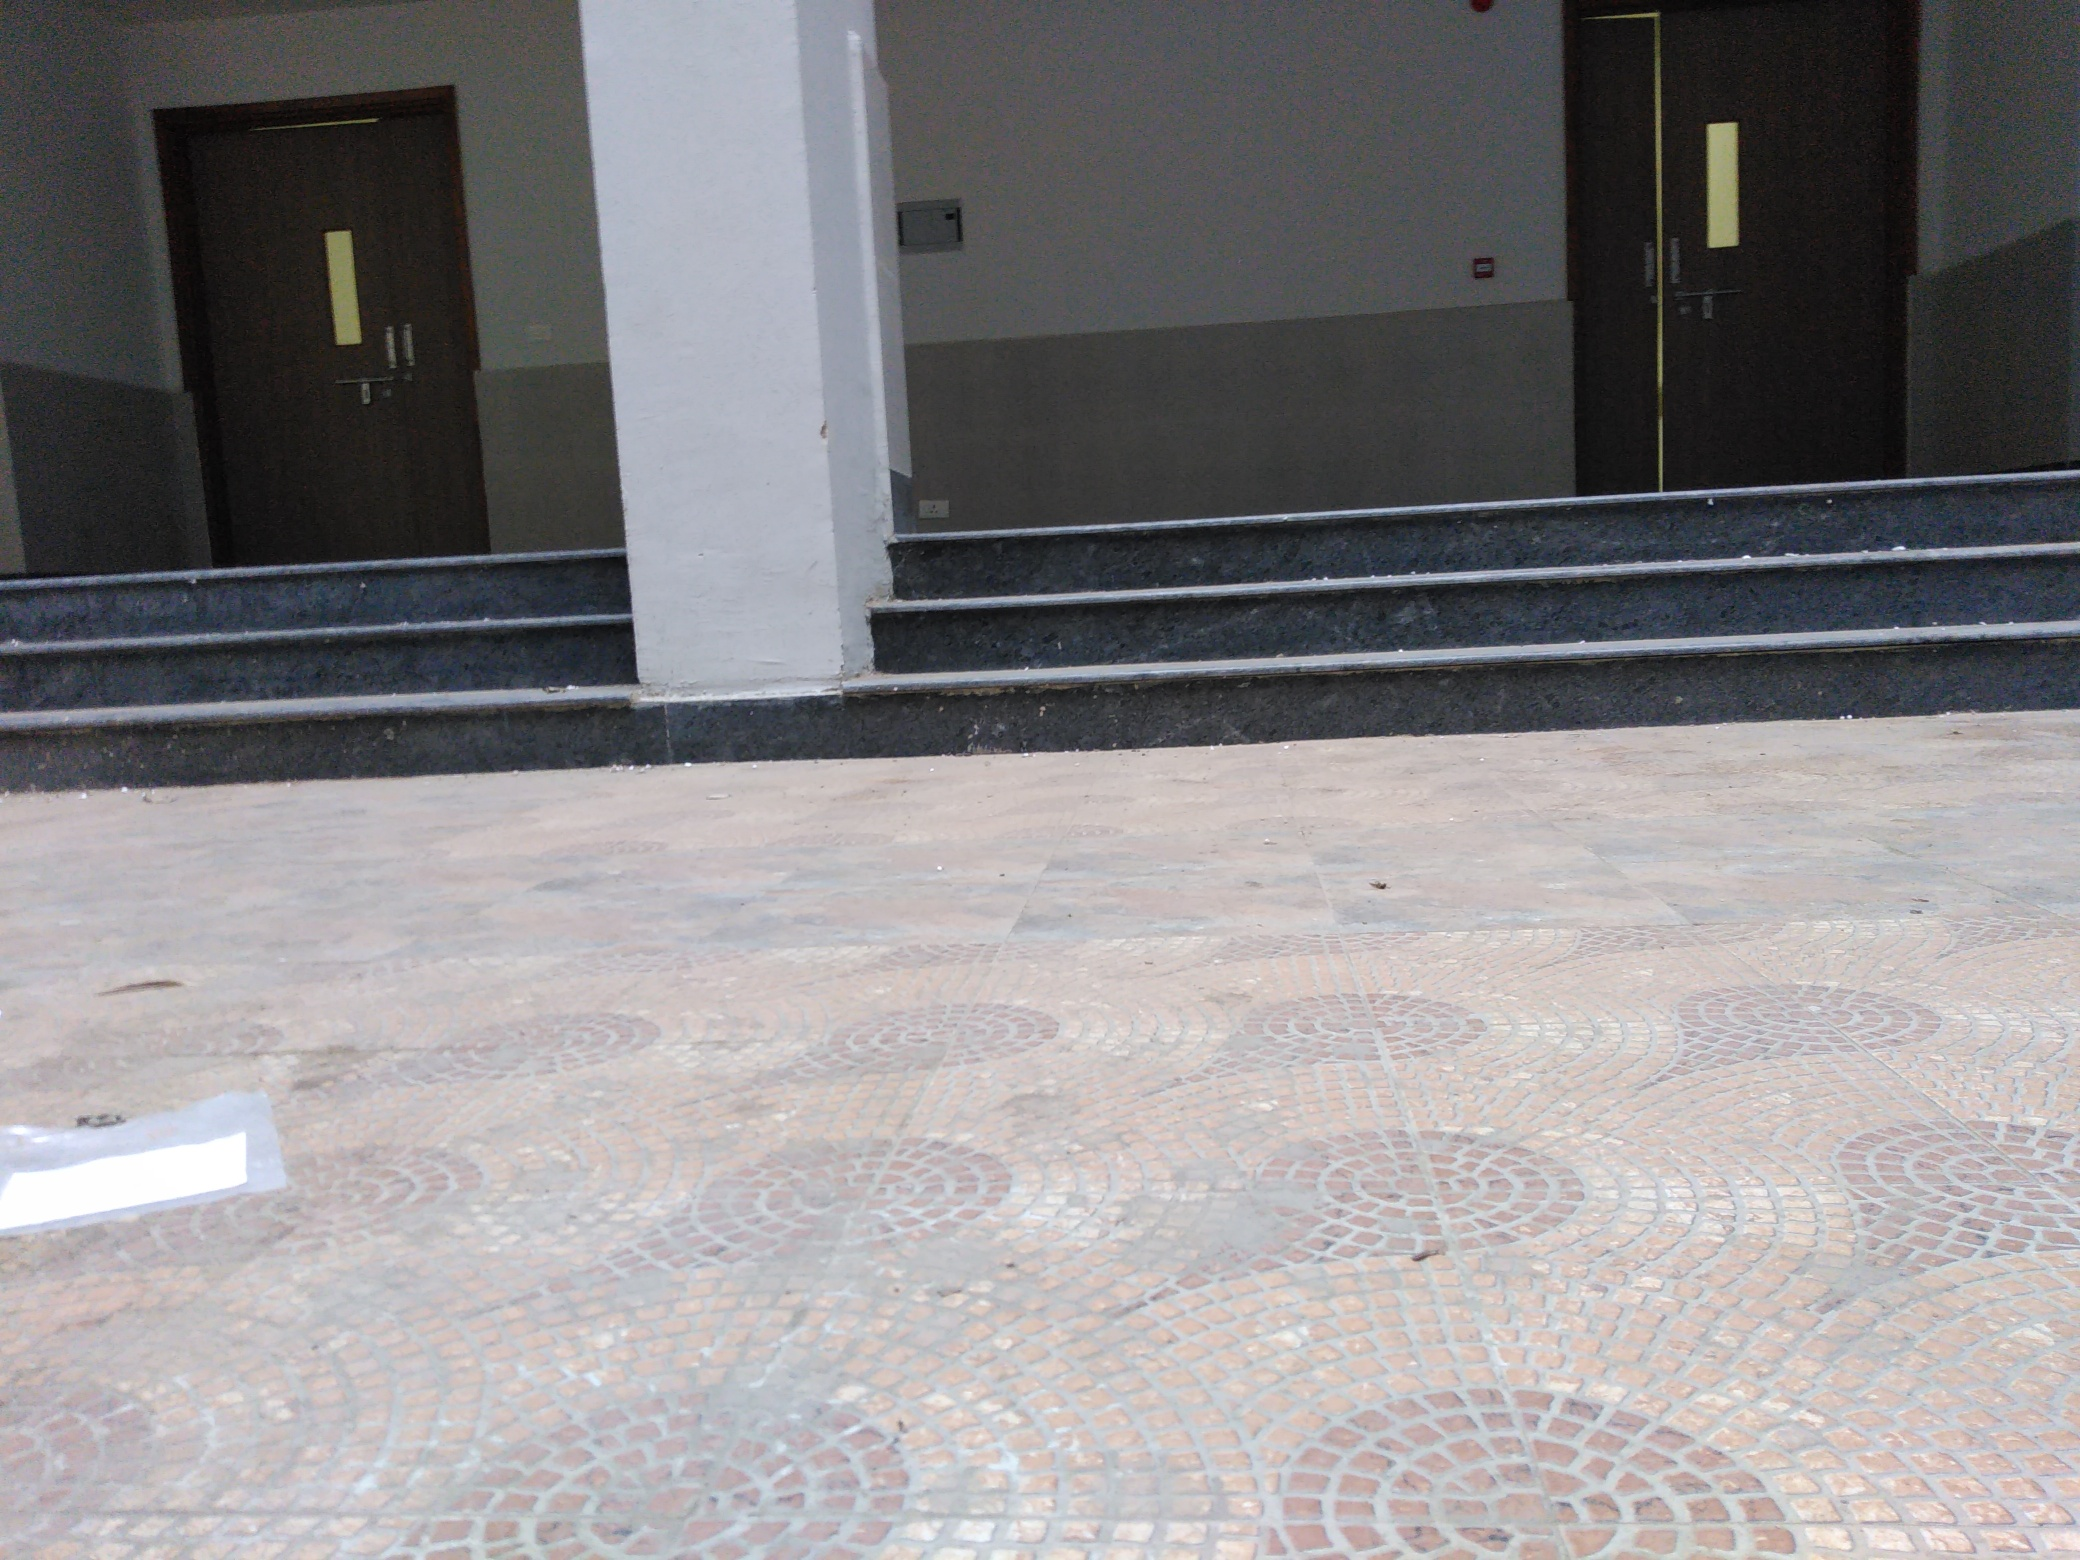stairs_up: (893, 469, 2059, 724), (2, 539, 616, 795)
